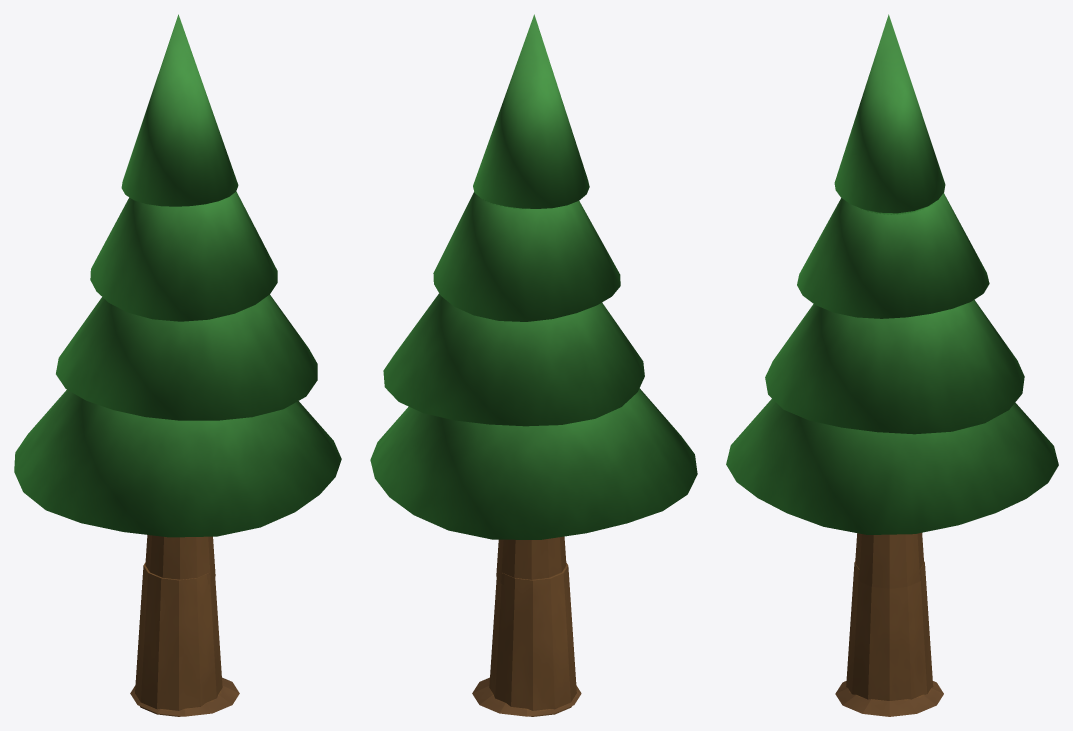
Rendered from pine_b.hi.glb.
3 views of the same model, side by side, from view 1: azimuth 30°, elevation 25°; view 2: azimuth 150°, elevation 25°; view 3: azimuth 270°, elevation 25° (orthographic).
Visible parts, largest first — view 1: pine; view 2: pine; view 3: pine.
Part boxes in pixels (x1,y1,x2,y2): pine: [14, 14, 341, 716]; pine: [370, 14, 697, 716]; pine: [726, 14, 1058, 716].
Bounding box in the file's own units: 4.12 × 9.37 × 4.16.
1 material, 1 textured.
